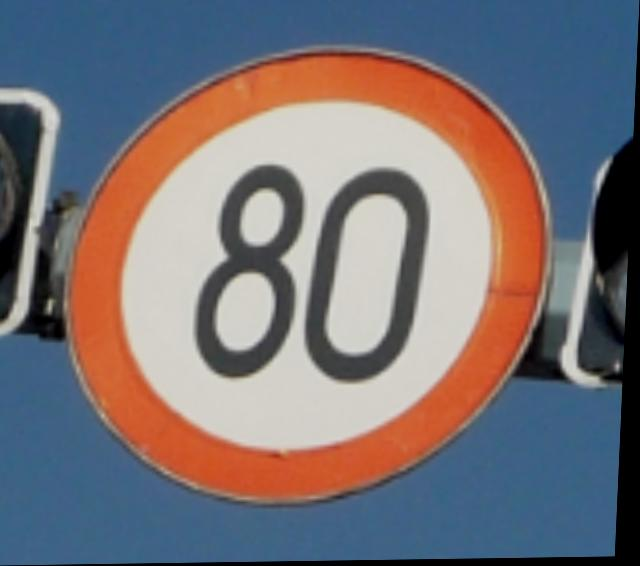limit80: (51, 33, 575, 525)
